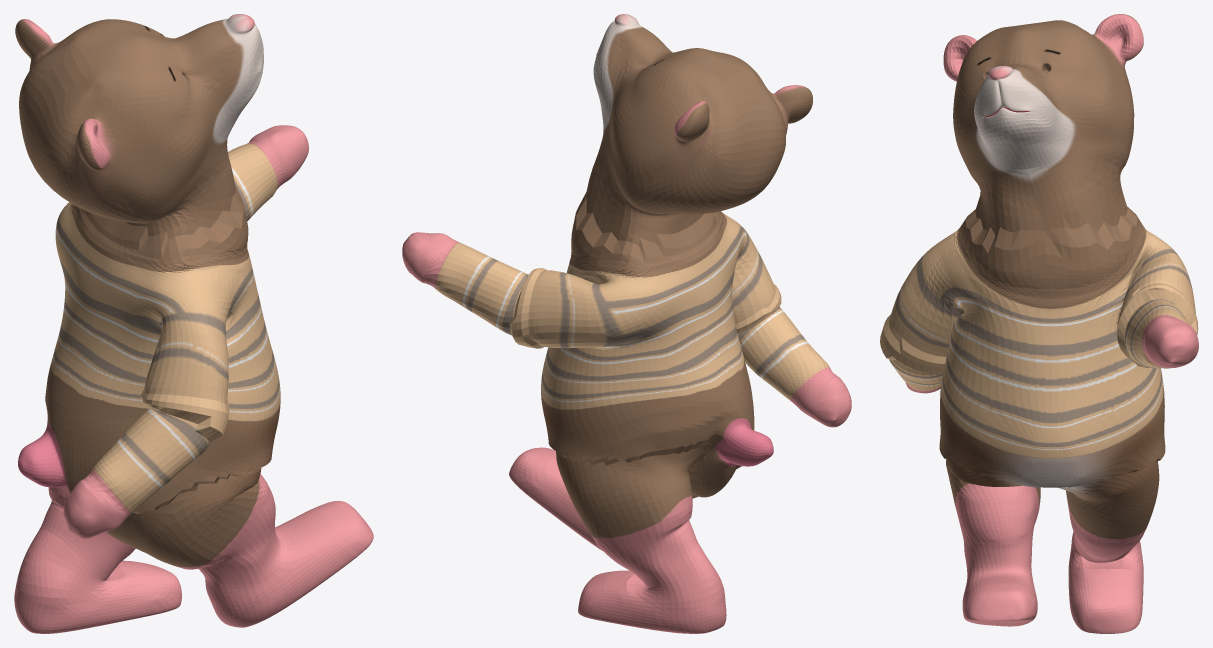
The picture shows the model from 3 angles, left to right: view 1: azimuth 30°, elevation 25°; view 2: azimuth 150°, elevation 25°; view 3: azimuth 270°, elevation 25°; orthographic projection. The views are drawn at different scales.
Parts seen in each view (by area): view 1: Group43755; view 2: Group43755; view 3: Group43755.
Part boxes in pixels (x1,y1,x2,y2): Group43755: (14, 14, 373, 633); Group43755: (402, 14, 851, 633); Group43755: (880, 14, 1198, 633).
Size of the model in its own units: 0.3037 by 0.4864 by 0.2454.
